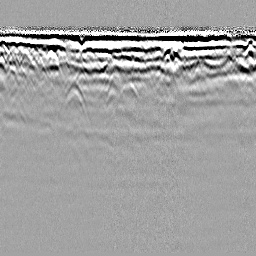cavity: (119, 80, 139, 100)
